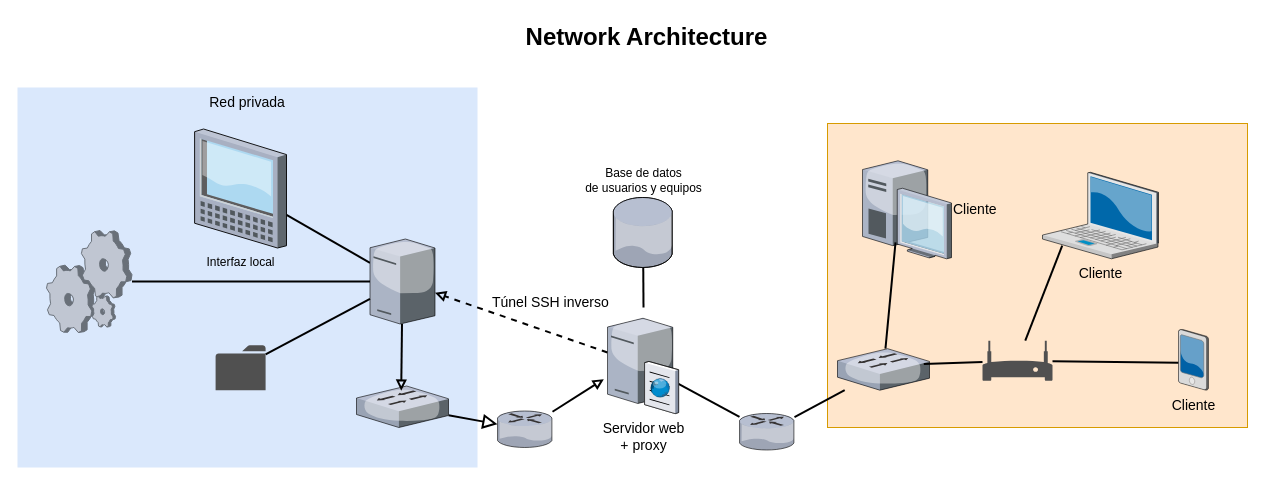
Some shapes in this 1265 by 484 pixel diagram are drawn without their labels. The shapes that lost their labels are listed below. From the top down, each one's box as (x1, y1, x2, y2) in pixels, then its label:
(46, 230, 132, 332): Máquina CNC
(370, 238, 434, 324): Servidor local
(826, 122, 1248, 428): Usuarios remotos
(215, 345, 265, 390): Almacenamiento de archivos
